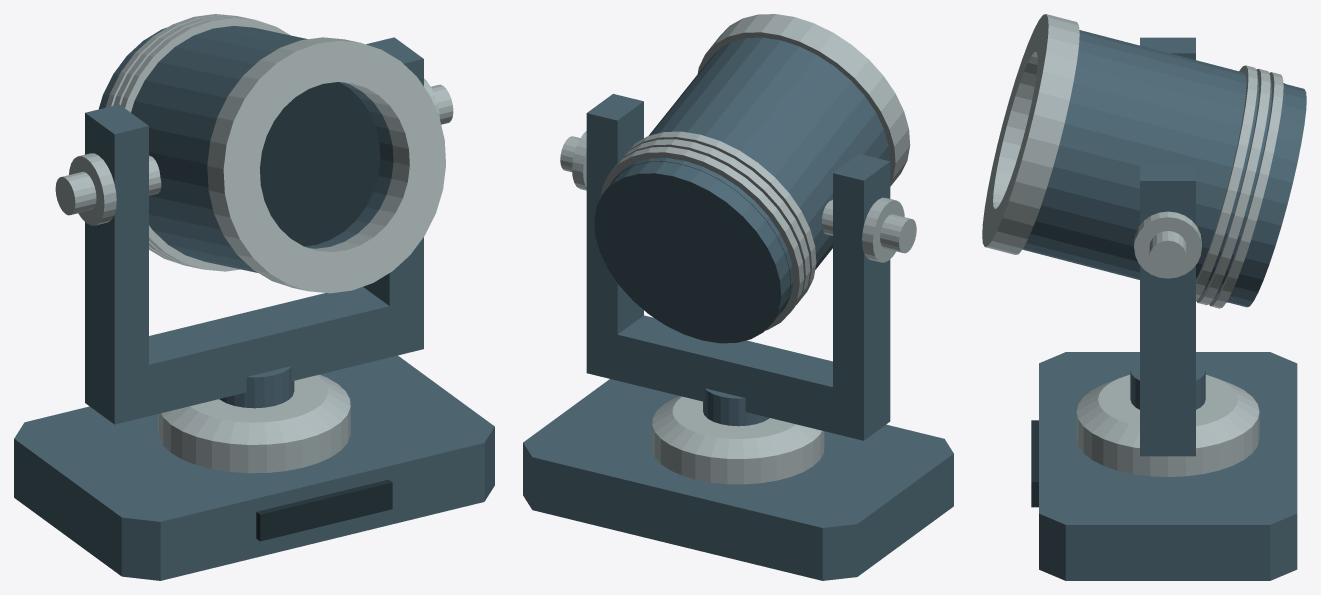
The picture shows the model from 3 angles, left to right: view 1: azimuth 30°, elevation 25°; view 2: azimuth 150°, elevation 25°; view 3: azimuth 270°, elevation 25°; orthographic projection. The views are drawn at different scales.
Parts seen in each view (by area): view 1: WholeGroundFootChamferedBase, WholeContinuousTwinArmOpenYoke, WholeOpenFrontLensCollar, WholeDeepAnnularLampHousing, WholeRecessedOpaqueOptic, WholeVerticalPanSeat, WholeBlankBaseInset, WholeRearExteriorRib_0, WholeVerticalYokeSpindle, LeftWholeOuterTiltCap, LeftWholeSupportedTiltAxle, WholeRearExteriorRib_1 (+1 smaller); view 2: WholeGroundFootChamferedBase, WholeContinuousTwinArmOpenYoke, WholeClosedRearHousingCap, WholeDeepAnnularLampHousing, WholeVerticalPanSeat, WholeOpenFrontLensCollar, WholeRearExteriorRib_2, WholeRearExteriorRib_1, WholeRearExteriorRib_0, LeftWholeOuterTiltCap, WholeVerticalYokeSpindle, LeftWholeSupportedTiltAxle (+1 smaller); view 3: WholeGroundFootChamferedBase, WholeDeepAnnularLampHousing, WholeContinuousTwinArmOpenYoke, WholeOpenFrontLensCollar, WholeVerticalPanSeat, WholeClosedRearHousingCap, WholeRearExteriorRib_1, WholeRearExteriorRib_2, WholeRearExteriorRib_0, RightWholeOuterTiltCap, RightWholeSupportedTiltAxle, WholeVerticalYokeSpindle (+1 smaller).
Part boxes in pixels (<box>): WholeGroundFootChamferedBase: <box>14,355,494,580</box>; WholeContinuousTwinArmOpenYoke: <box>85,37,423,424</box>; WholeOpenFrontLensCollar: <box>207,37,445,293</box>; WholeDeepAnnularLampHousing: <box>131,26,393,272</box>; WholeRecessedOpaqueOptic: <box>260,82,380,246</box>; WholeVerticalPanSeat: <box>158,374,350,473</box>; WholeBlankBaseInset: <box>256,479,392,541</box>; WholeRearExteriorRib_0: <box>121,17,290,271</box>; WholeVerticalYokeSpindle: <box>219,366,294,408</box>; LeftWholeOuterTiltCap: <box>69,153,116,225</box>; LeftWholeSupportedTiltAxle: <box>55,155,161,215</box>; WholeRearExteriorRib_1: <box>113,15,248,267</box>; WholeGroundFootChamferedBase: <box>523,379,953,580</box>; WholeContinuousTwinArmOpenYoke: <box>586,94,890,440</box>; WholeClosedRearHousingCap: <box>594,161,790,343</box>; WholeDeepAnnularLampHousing: <box>611,37,889,313</box>; WholeVerticalPanSeat: <box>652,396,824,484</box>; WholeOpenFrontLensCollar: <box>697,14,910,186</box>; WholeRearExteriorRib_2: <box>600,147,804,330</box>; WholeRearExteriorRib_1: <box>615,139,810,304</box>; WholeRearExteriorRib_0: <box>620,131,816,297</box>; LeftWholeOuterTiltCap: <box>862,197,904,262</box>; WholeVerticalYokeSpindle: <box>703,388,769,426</box>; LeftWholeSupportedTiltAxle: <box>822,200,916,253</box>; WholeGroundFootChamferedBase: <box>1039,352,1297,580</box>; WholeDeepAnnularLampHousing: <box>1022,30,1287,302</box>; WholeContinuousTwinArmOpenYoke: <box>1140,37,1195,456</box>; WholeOpenFrontLensCollar: <box>982,14,1079,254</box>; WholeVerticalPanSeat: <box>1076,374,1259,476</box>; WholeClosedRearHousingCap: <box>1228,84,1306,307</box>; WholeRearExteriorRib_1: <box>1196,69,1270,305</box>; WholeRearExteriorRib_2: <box>1209,72,1283,308</box>; WholeRearExteriorRib_0: <box>1196,65,1257,300</box>; RightWholeOuterTiltCap: <box>1134,211,1201,278</box>; RightWholeSupportedTiltAxle: <box>1149,231,1186,274</box>; WholeVerticalYokeSpindle: <box>1130,360,1205,409</box>.
Size of the model in its own units: 0.77 by 0.9616 by 0.6031.
